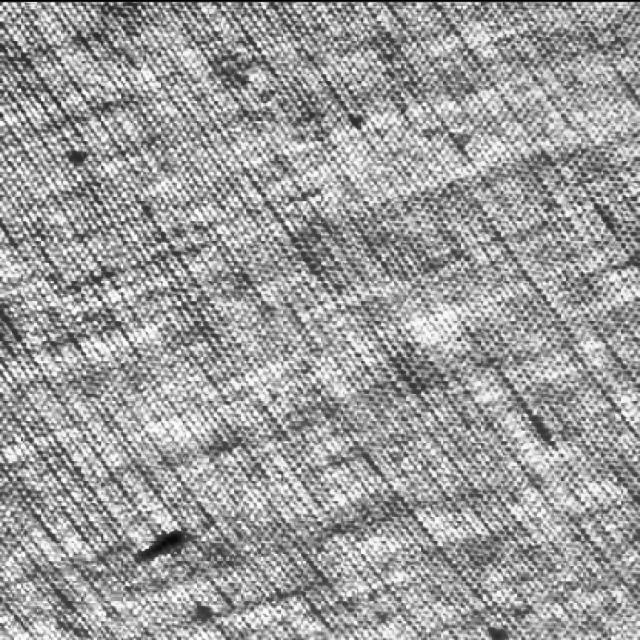oil_spot: (128, 518, 204, 570)
